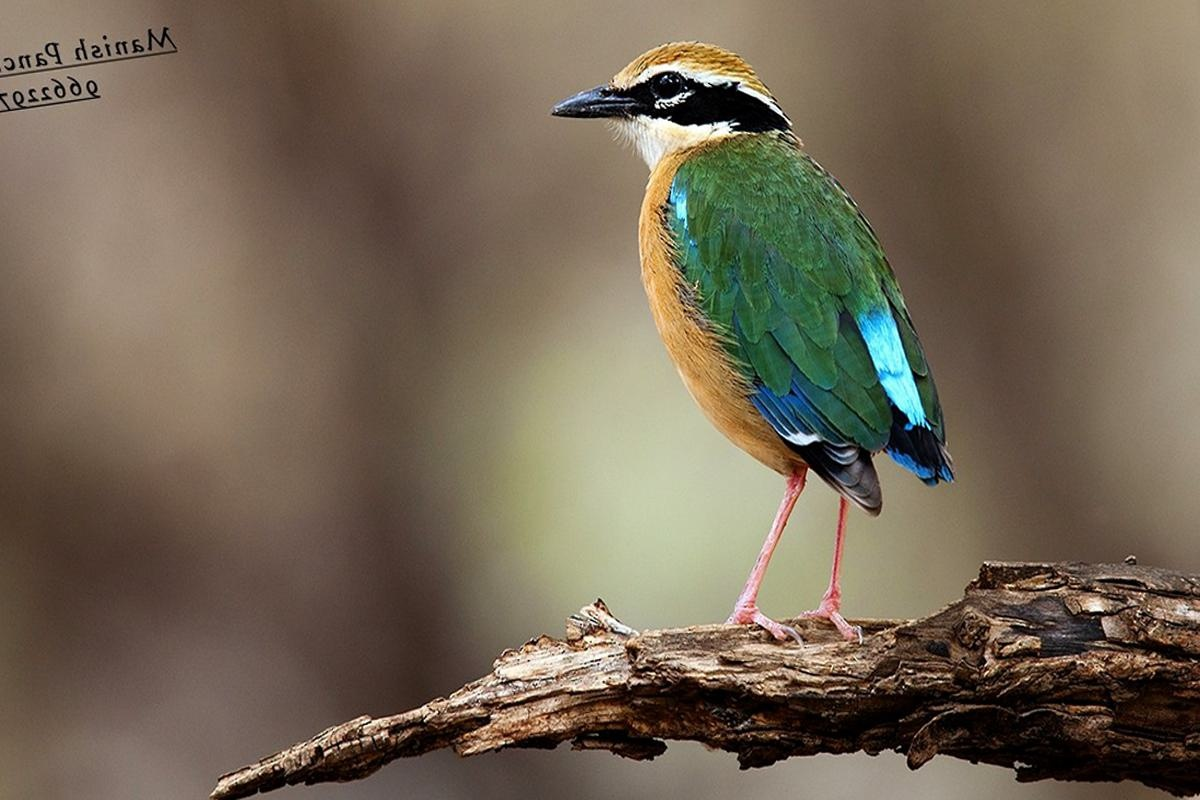pitta: (539, 13, 1036, 702)
